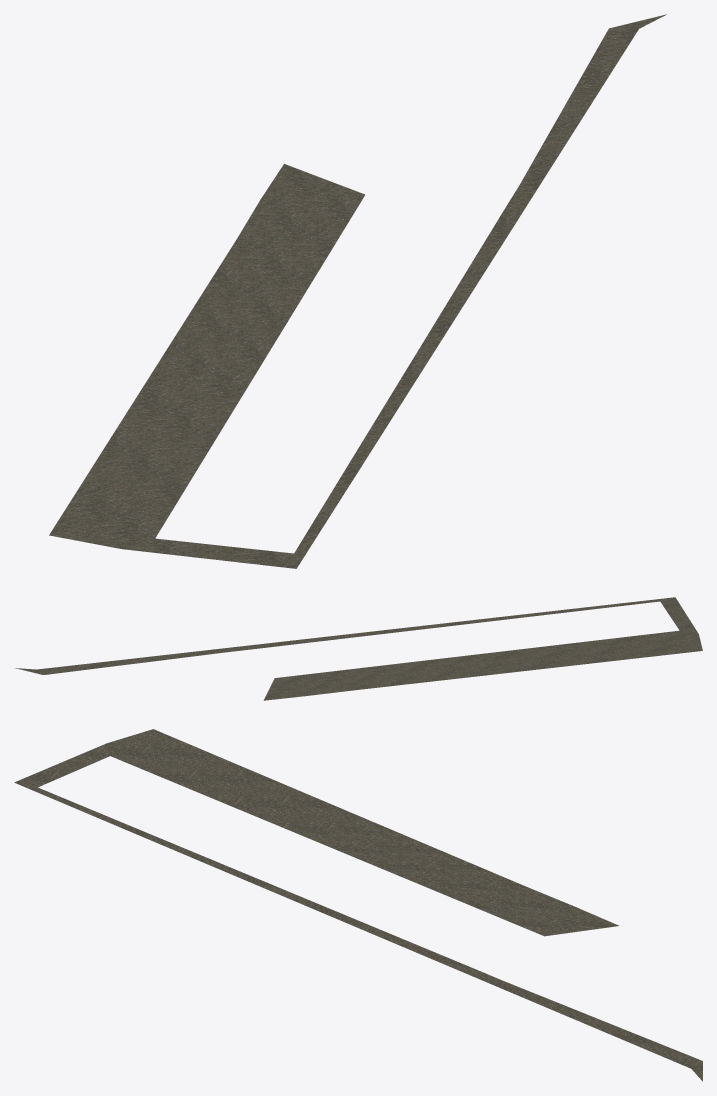
The model's file is btoland4_las2.obj.
3 views of the same model, one above another, from view 1: azimuth 30°, elevation 25°; view 2: azimuth 150°, elevation 25°; view 3: azimuth 270°, elevation 25° (orthographic). The views are drawn at different scales.
Visible parts, largest first — view 1: BTOLAND4_las2; view 2: BTOLAND4_las2; view 3: BTOLAND4_las2.
Boxes of the visible parts, x1,y1,x2,y2 form: BTOLAND4_las2: (49, 14, 666, 568); BTOLAND4_las2: (15, 597, 702, 700); BTOLAND4_las2: (14, 729, 702, 1081).
Size of the model in its own units: 191 by 0.000116 by 157.
